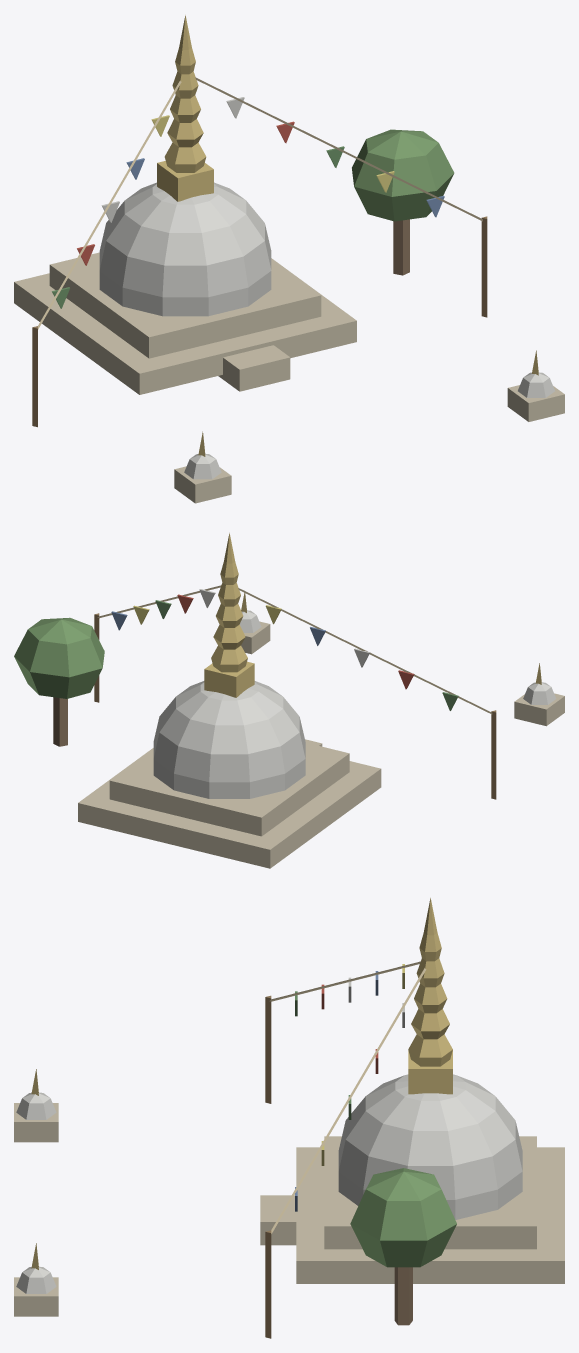
The model's file is holy-site.glb.
The picture shows the model from 3 angles, top to bottom: view 1: azimuth 30°, elevation 25°; view 2: azimuth 150°, elevation 25°; view 3: azimuth 270°, elevation 25°; orthographic projection. The views are drawn at different scales.
Parts seen in each view (by area): view 1: LOD0; view 2: LOD0; view 3: LOD0.
Boxes of the visible parts, bbox=[...] form: LOD0: bbox=[14, 15, 564, 503]; LOD0: bbox=[14, 533, 564, 868]; LOD0: bbox=[14, 898, 564, 1338].
Size of what is drawn, in the model's own units: 1.3 by 0.825 by 1.23.
